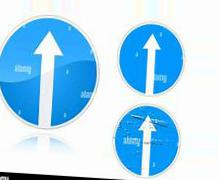forward: (1, 14, 99, 130), (119, 19, 186, 97)
